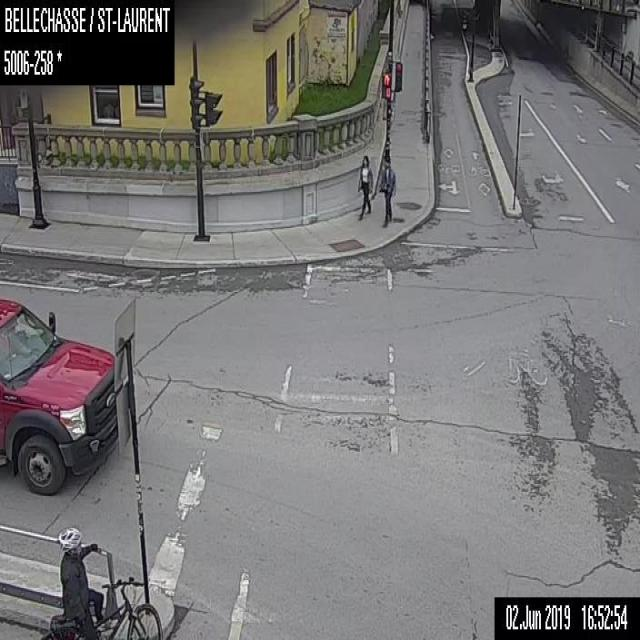cyclist: (39, 525, 162, 639)
pedestrian: (376, 157, 394, 224), (356, 155, 371, 220)
vehicle: (0, 297, 117, 495)
